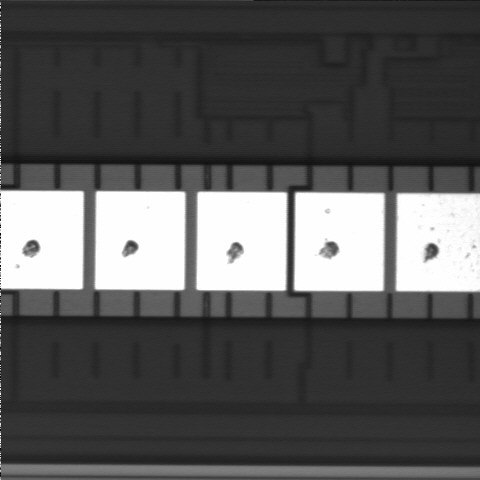pad: (95, 191, 185, 290), (197, 192, 287, 291), (294, 193, 384, 291)
